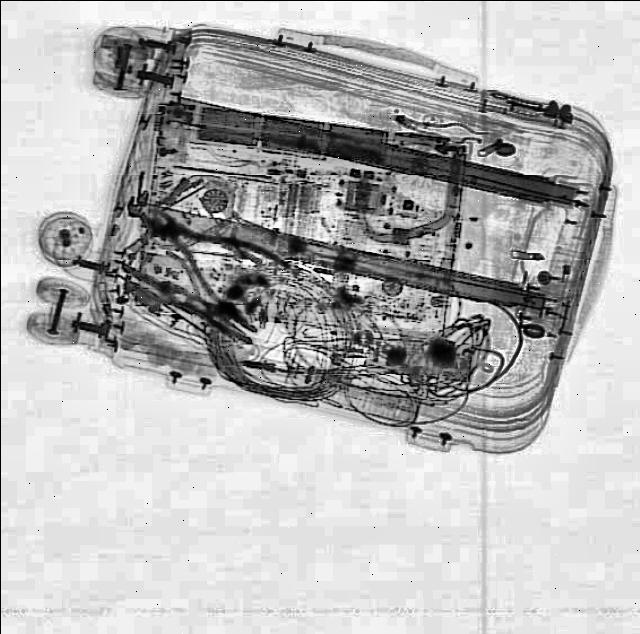Pliers: (120, 180, 292, 328), (116, 251, 264, 348)
